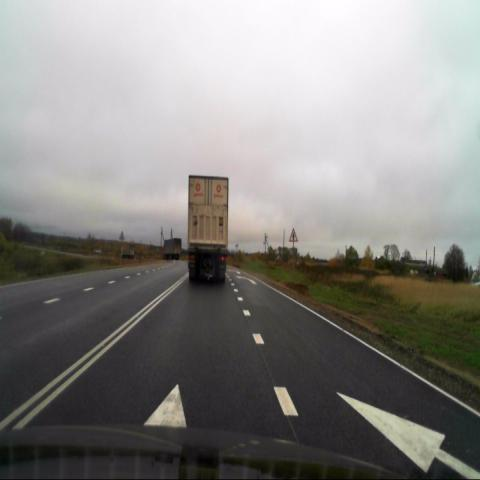2_3: (289, 227, 297, 242)
